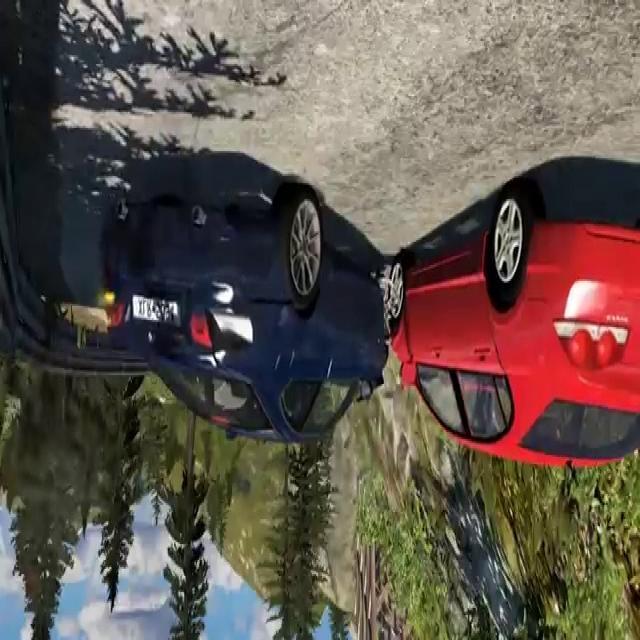moderate: (91, 166, 640, 492)
